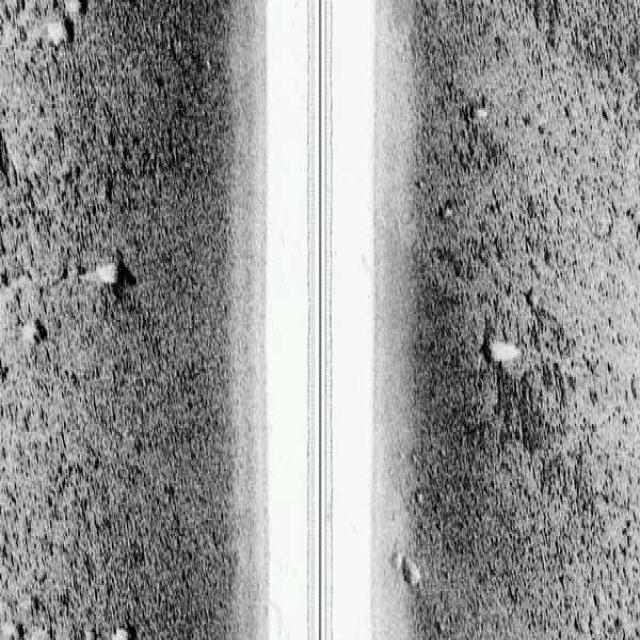other: (55, 251, 138, 310), (473, 318, 531, 373)
